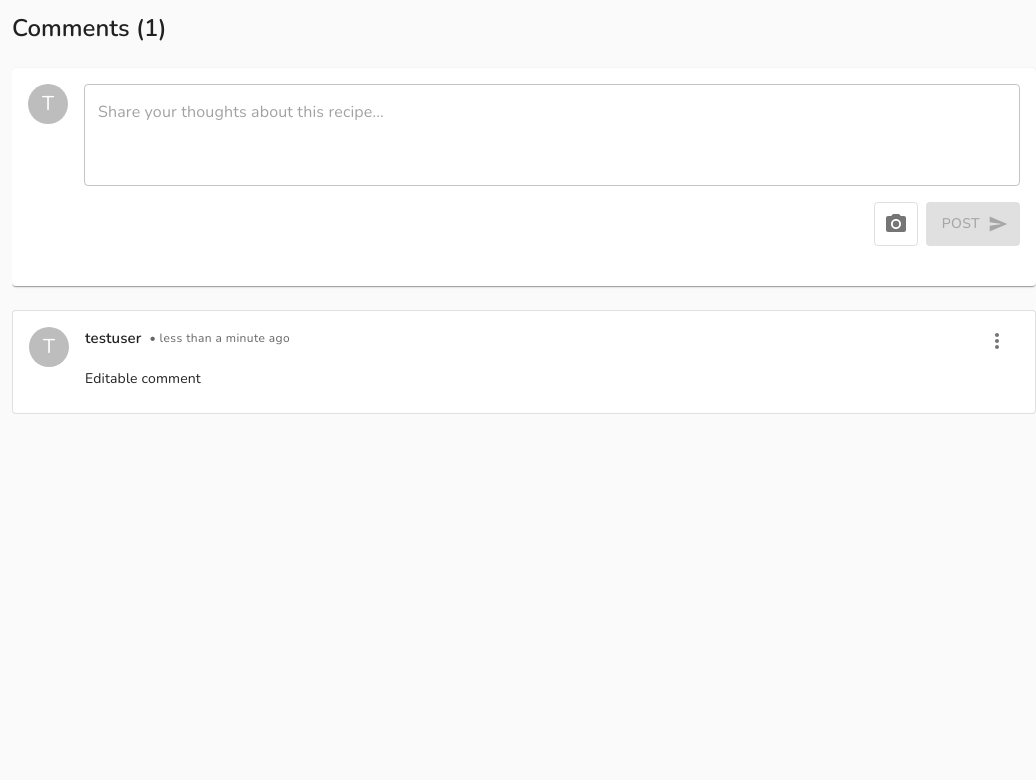
Test: CommentsSection Component › Edit Comment Functionality - Lines 572, 623-650 › should handle rating change in edit mode (line 572)
This screenshot has width=1036, height=780.
Expected: the text "Editable comment" is shown, [85, 369, 201, 388]
Click the button without text in the row of "less than a minute ago".
click(997, 341)  # box [975, 319, 1019, 363]
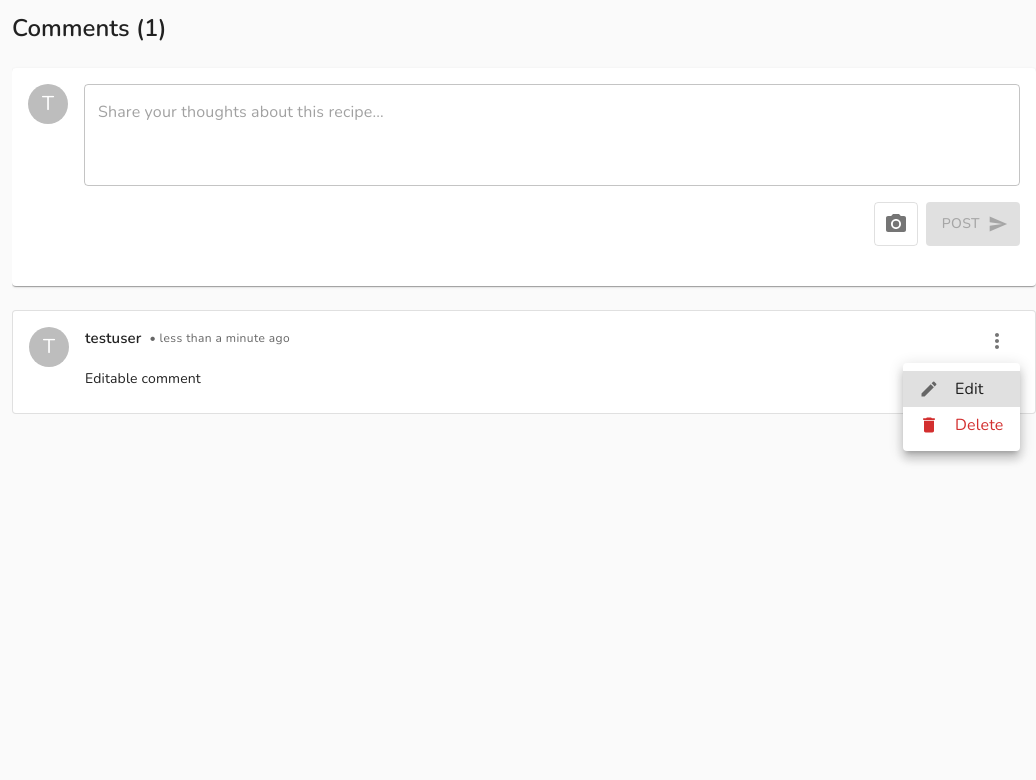
Expected: the text "Edit" is shown, [955, 378, 984, 400]
Click the menu item "Edit".
click(961, 389)  # box [903, 371, 1020, 407]
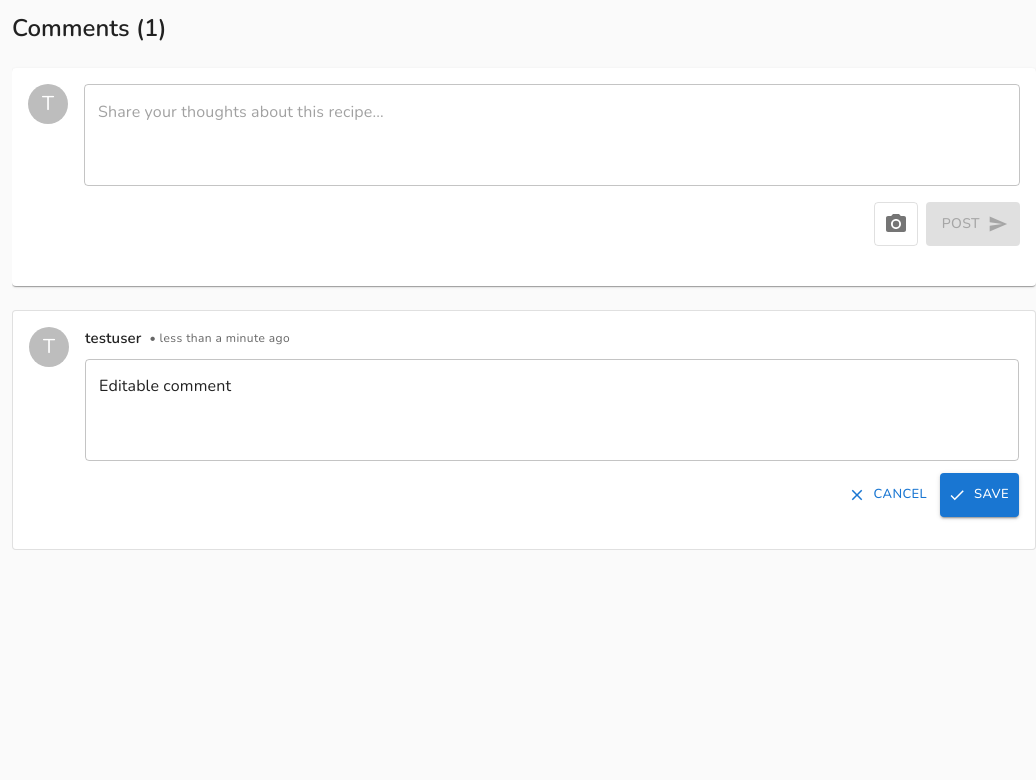
Expected: the text box showing "Editable comment" is shown, [99, 375, 1005, 444]
